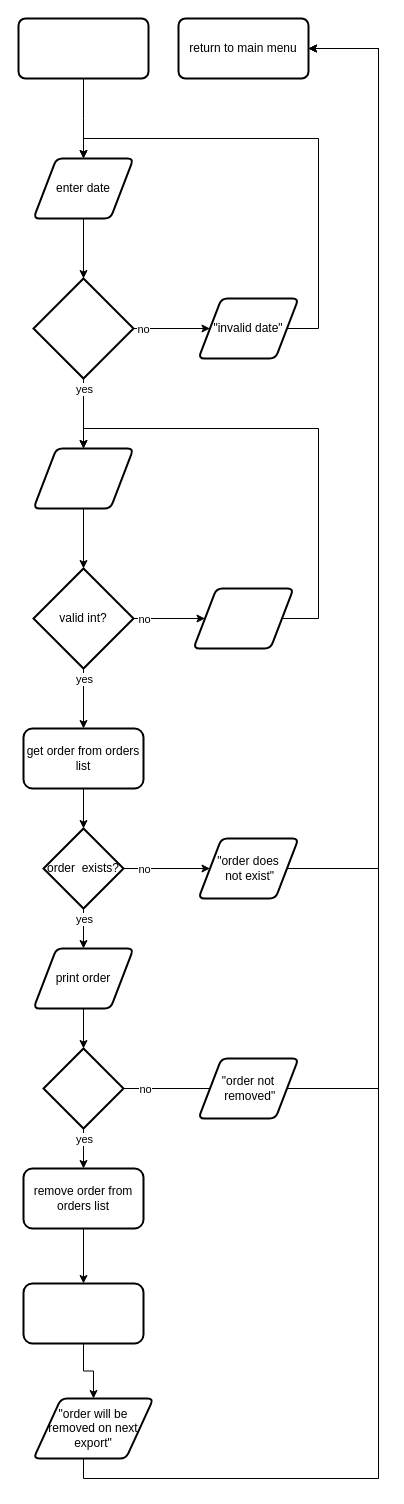
The diagram is 404 pixels wide and 1504 high, and some of its shapes have lost their labels. Each missing label, with the box of its shape:
"invalid order number": (192, 587, 294, 649)
enter order number: (32, 447, 134, 509)
remove an order: (17, 17, 149, 79)
remove order?: (42, 1047, 124, 1129)
valid date?: (32, 277, 134, 379)
write to audit: (22, 1282, 144, 1344)
